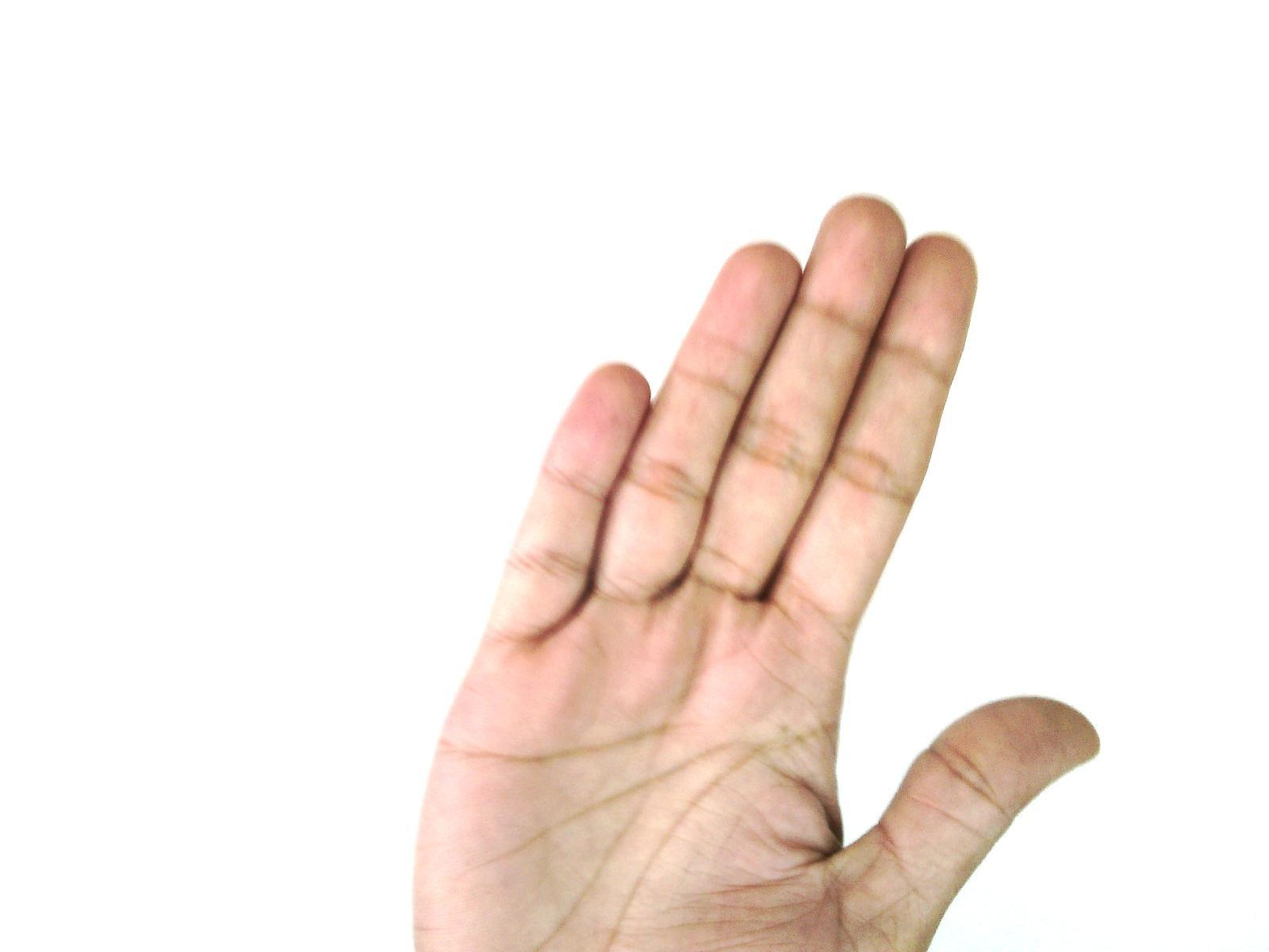open_palm: (408, 194, 1103, 952)
